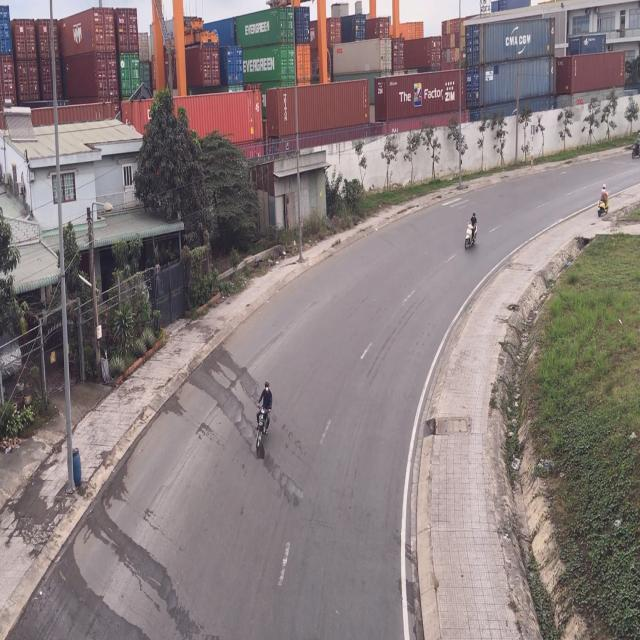motorbike: (255, 381, 275, 460), (461, 211, 478, 253), (596, 182, 610, 221), (629, 132, 640, 161)
